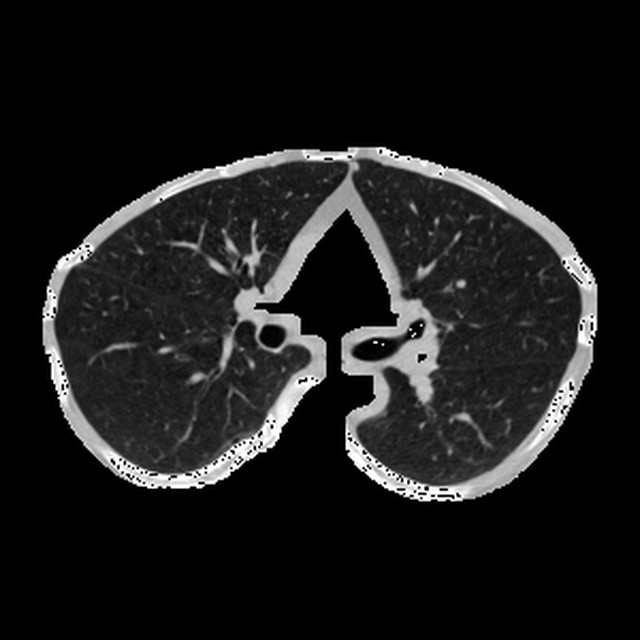PN: (457, 279, 465, 288)
